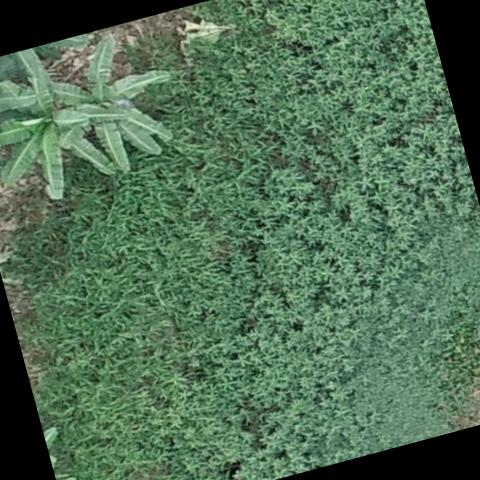Banana-plant: (43, 22, 184, 184), (0, 52, 119, 205), (0, 51, 39, 146)
